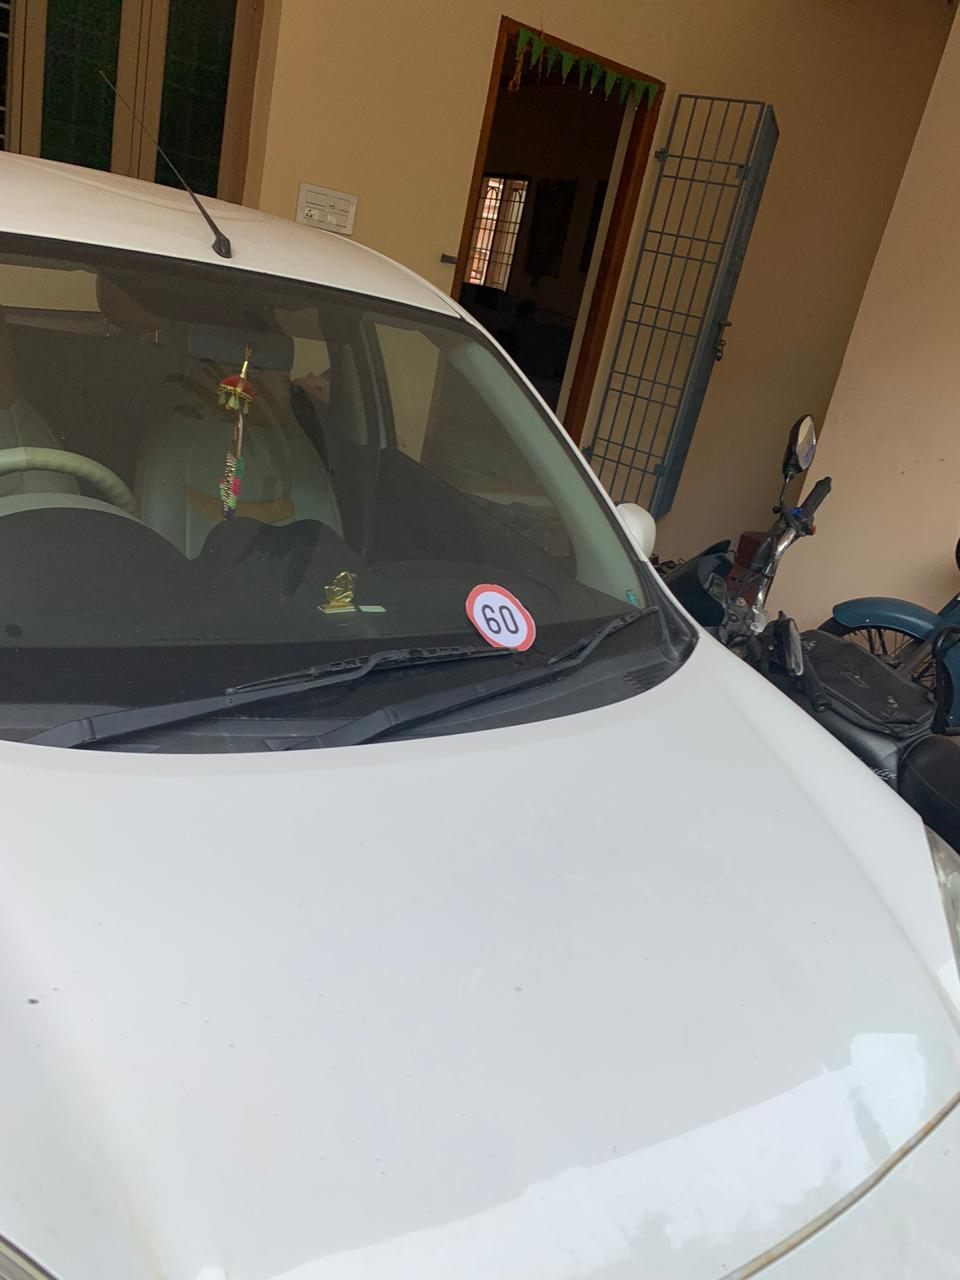SPEED LIMIT (60 KM/H): (449, 557, 542, 663)
